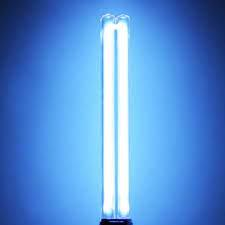Lamp: (96, 7, 135, 225)
